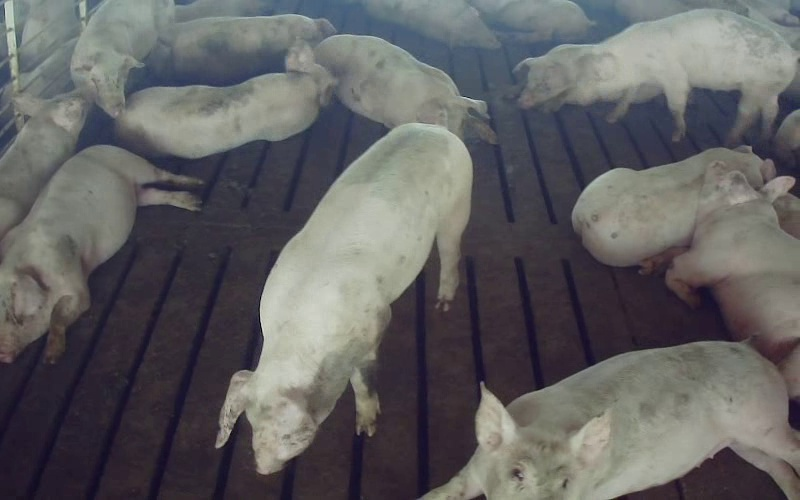pig: (216, 123, 472, 471), (421, 342, 799, 499), (0, 146, 201, 361), (666, 162, 799, 396), (568, 9, 799, 142), (116, 42, 335, 158), (572, 147, 773, 271), (315, 35, 496, 143), (147, 14, 335, 85), (0, 92, 87, 238), (504, 44, 591, 111)
